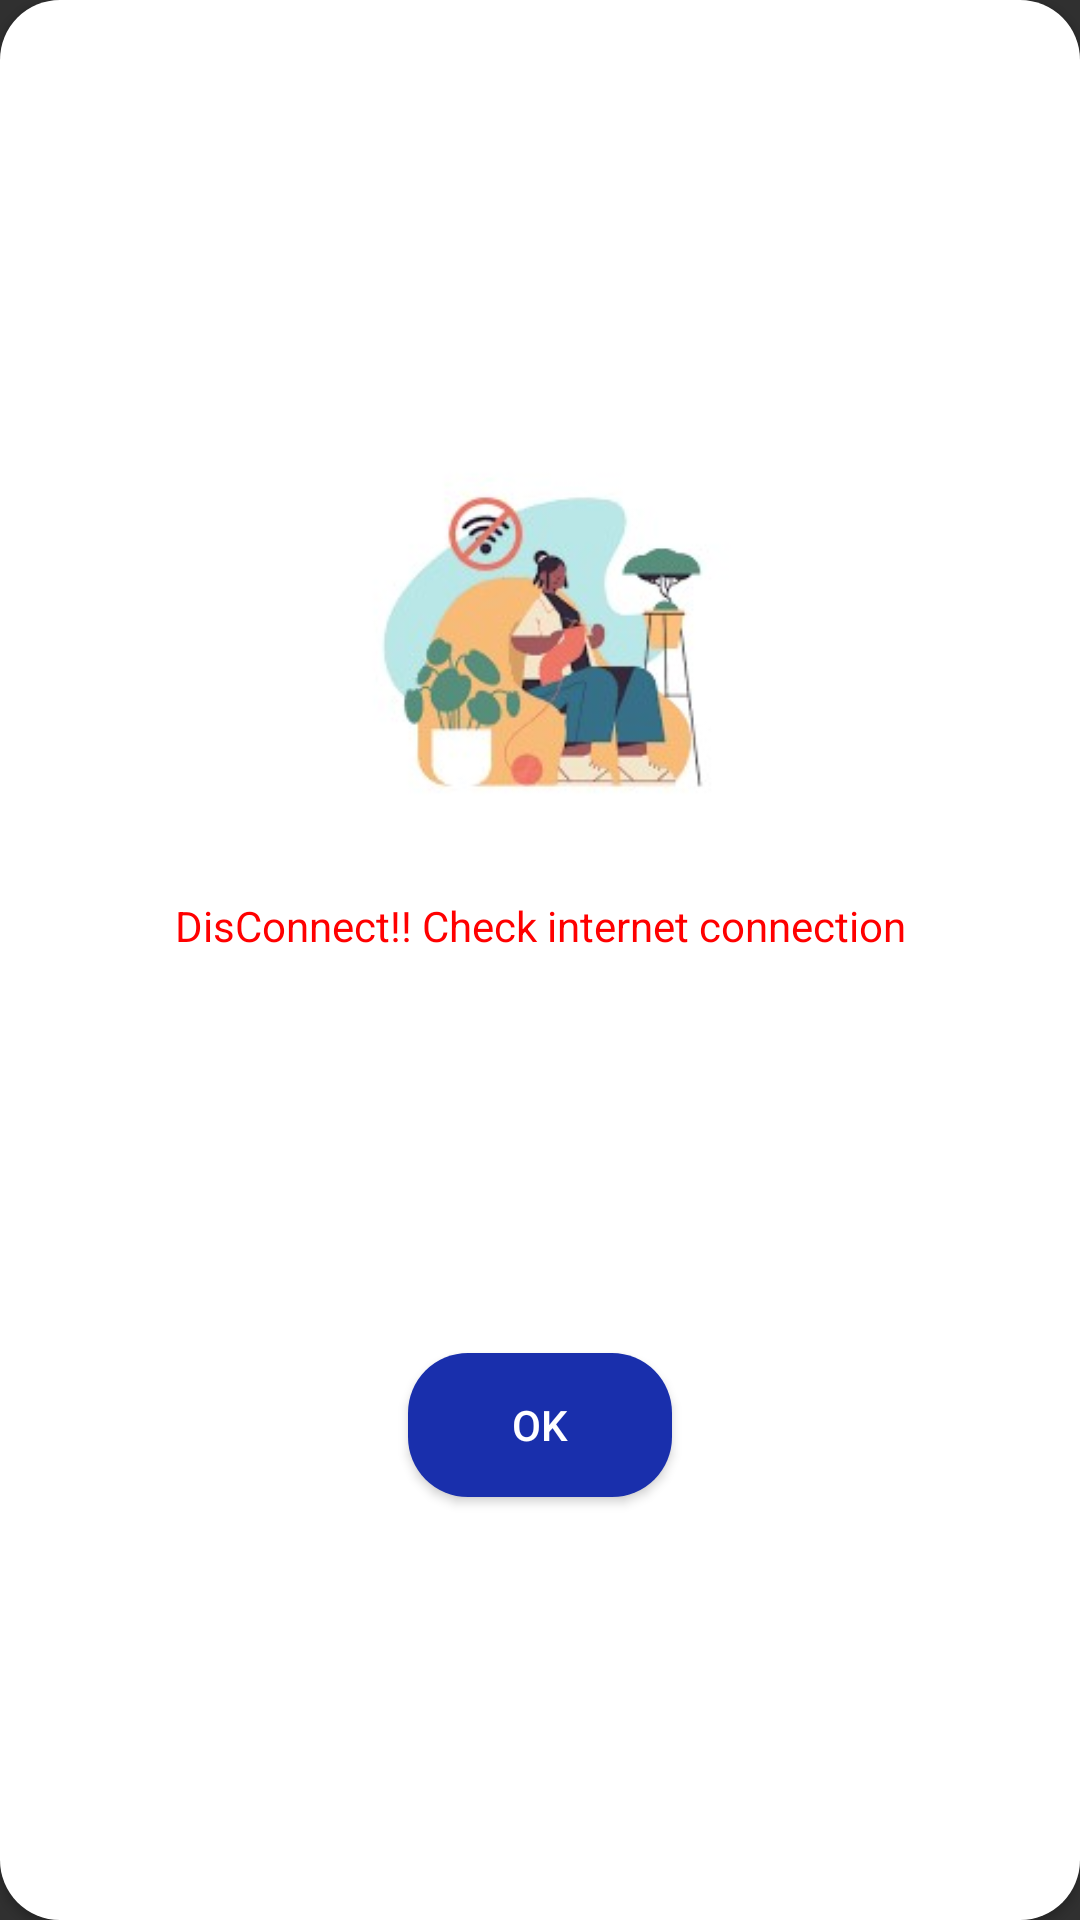

Screen size 1080px×1920px. Icon name, then its box in pixels as (x1, y1, x2, y2):
images: (383, 497, 702, 787)
